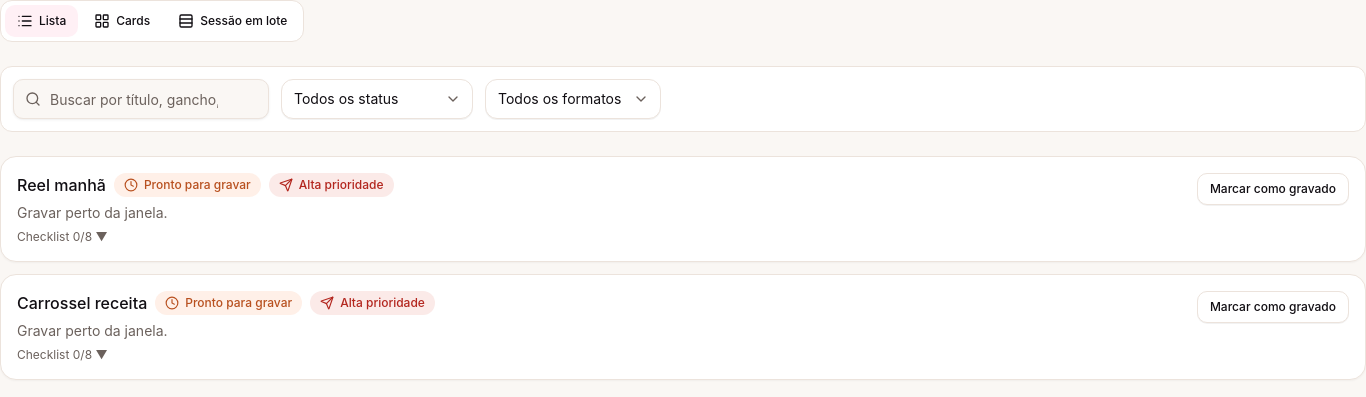
it: GravacaoWorkspace › busca filtra a lista por título
Type "receita" into the search field with placeholder "Buscar por título, gancho, pilar..." at (141, 99), box [13,79,269,119]
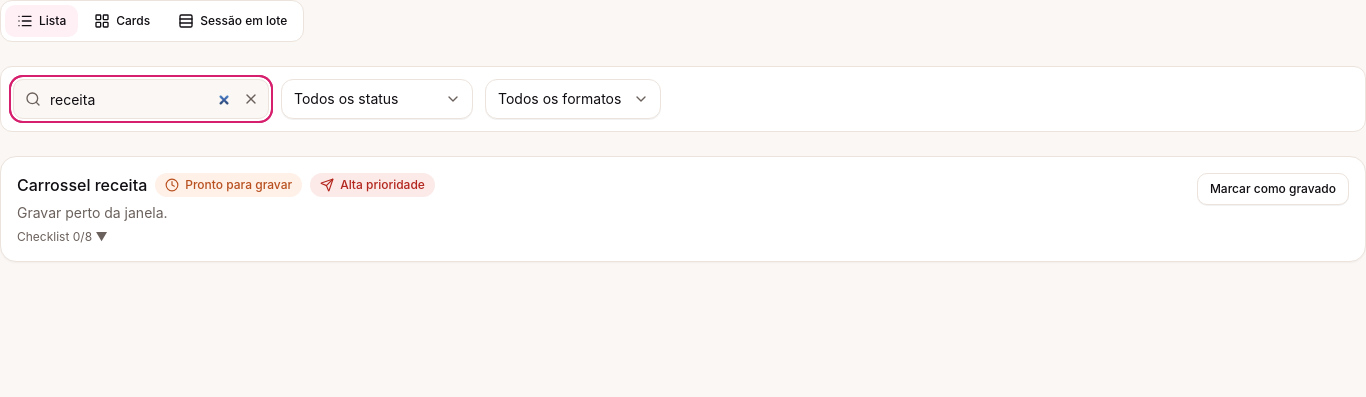
Expected: the text "Carrossel receita" is shown, [17,173,147,197]
Now the text "Reel manhã" is gone
